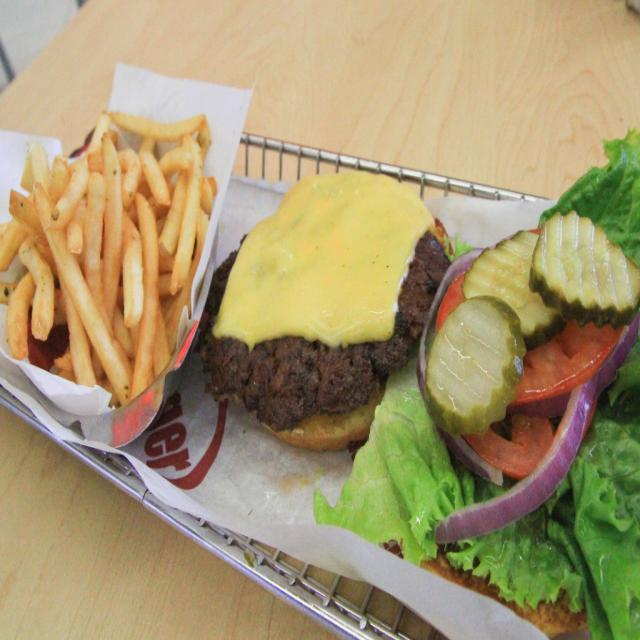Hamburger: (192, 130, 640, 637), (183, 171, 428, 452)
